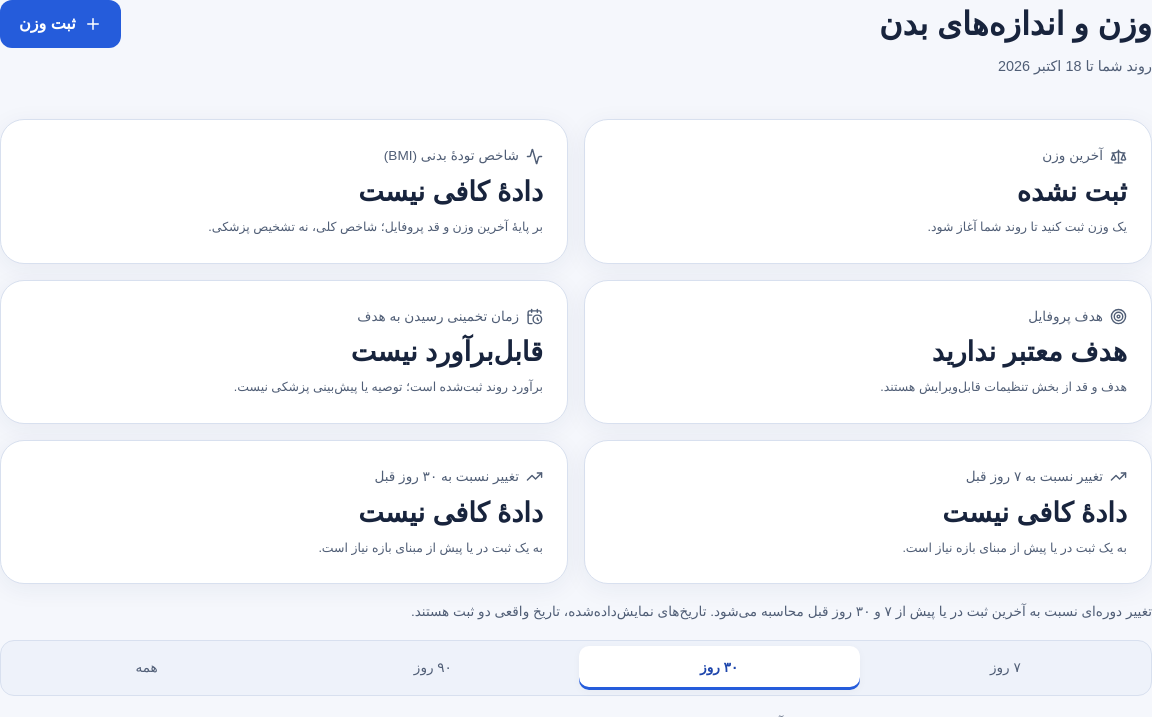
Test: weight and measurement user flows › keeps failed-save data and blocks duplicate submission while pending
Click the button "ثبت وزن" at (60, 24), box [0, 0, 121, 48]
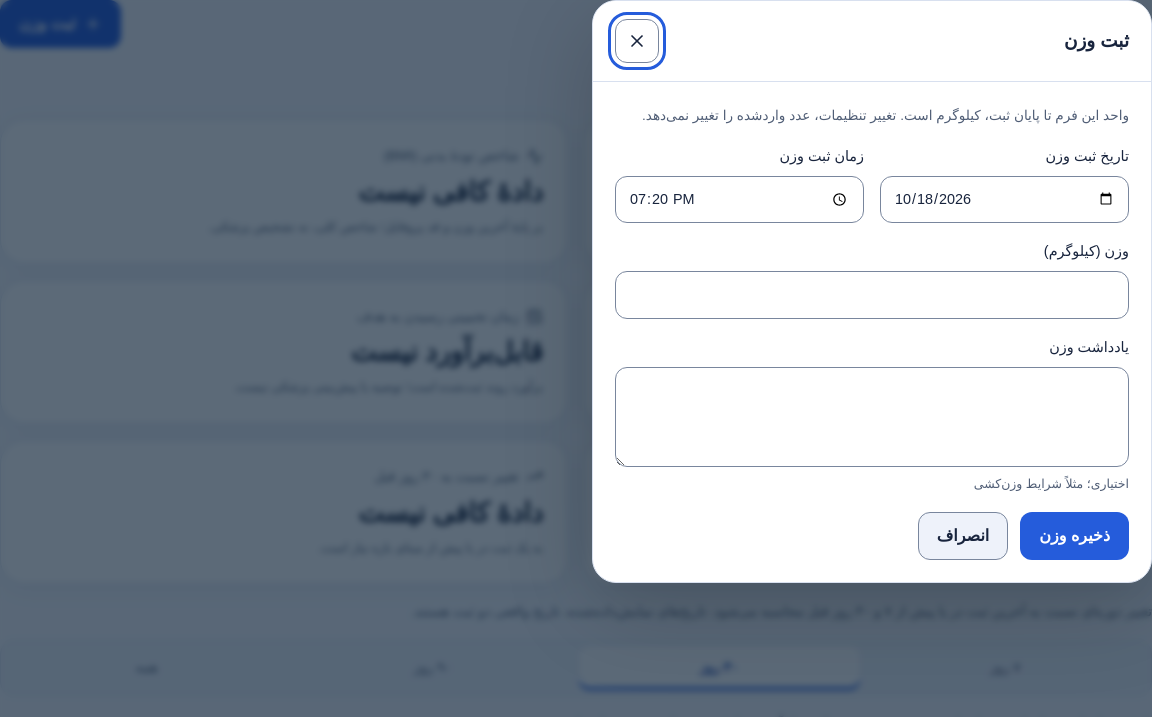
Type "81" into the number field labelled "وزن (کیلوگرم)" at (872, 295), box [615, 271, 1129, 319]
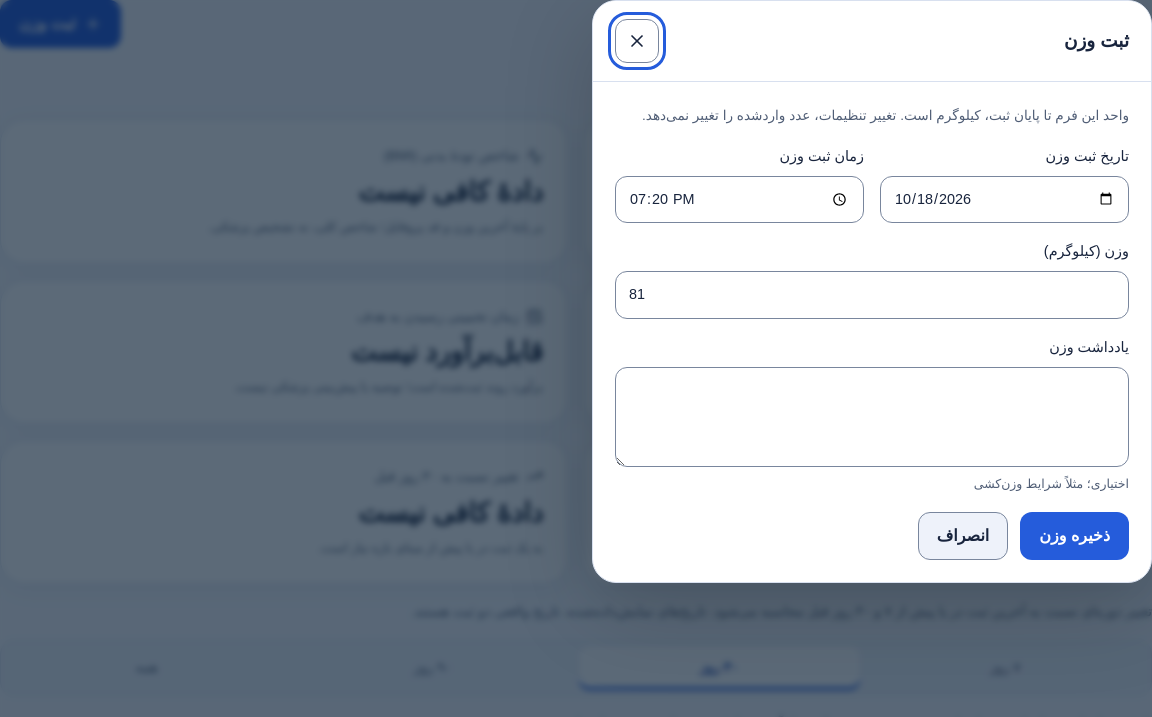
Submit the form named "وزن (کیلوگرم)", box [615, 104, 1129, 560]
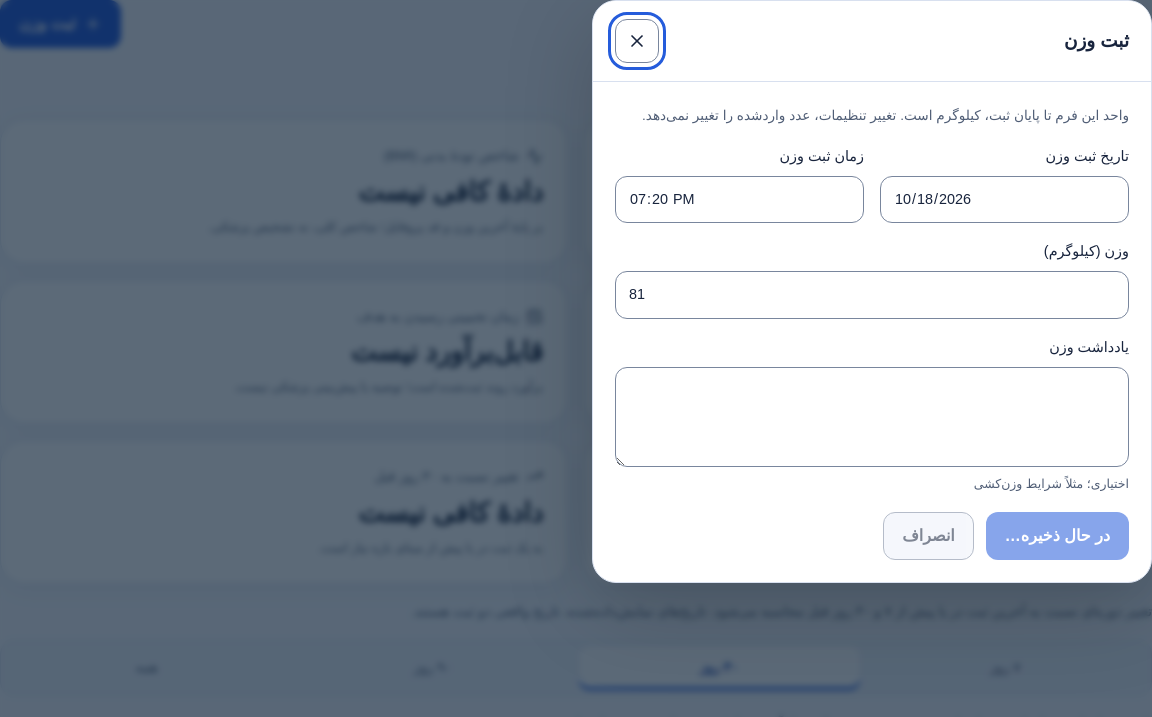
Submit the form named "وزن (کیلوگرم)", box [615, 104, 1129, 560]
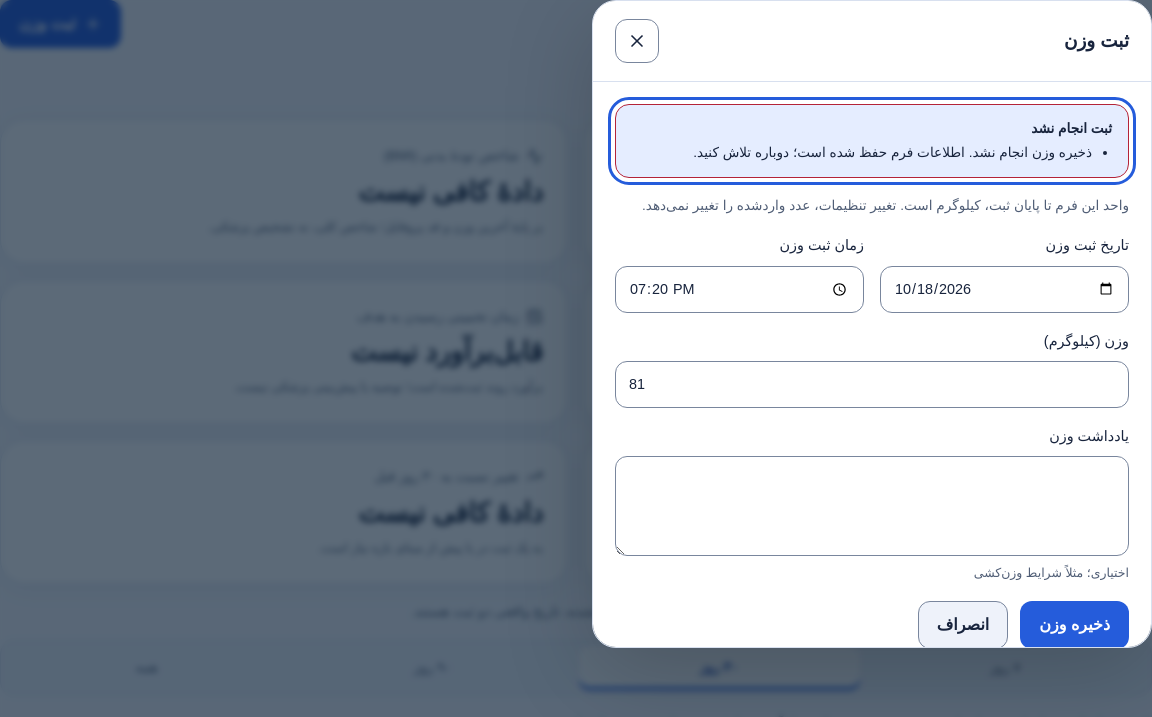
Now the message shows "ذخیره", box [693, 145, 1092, 160]
